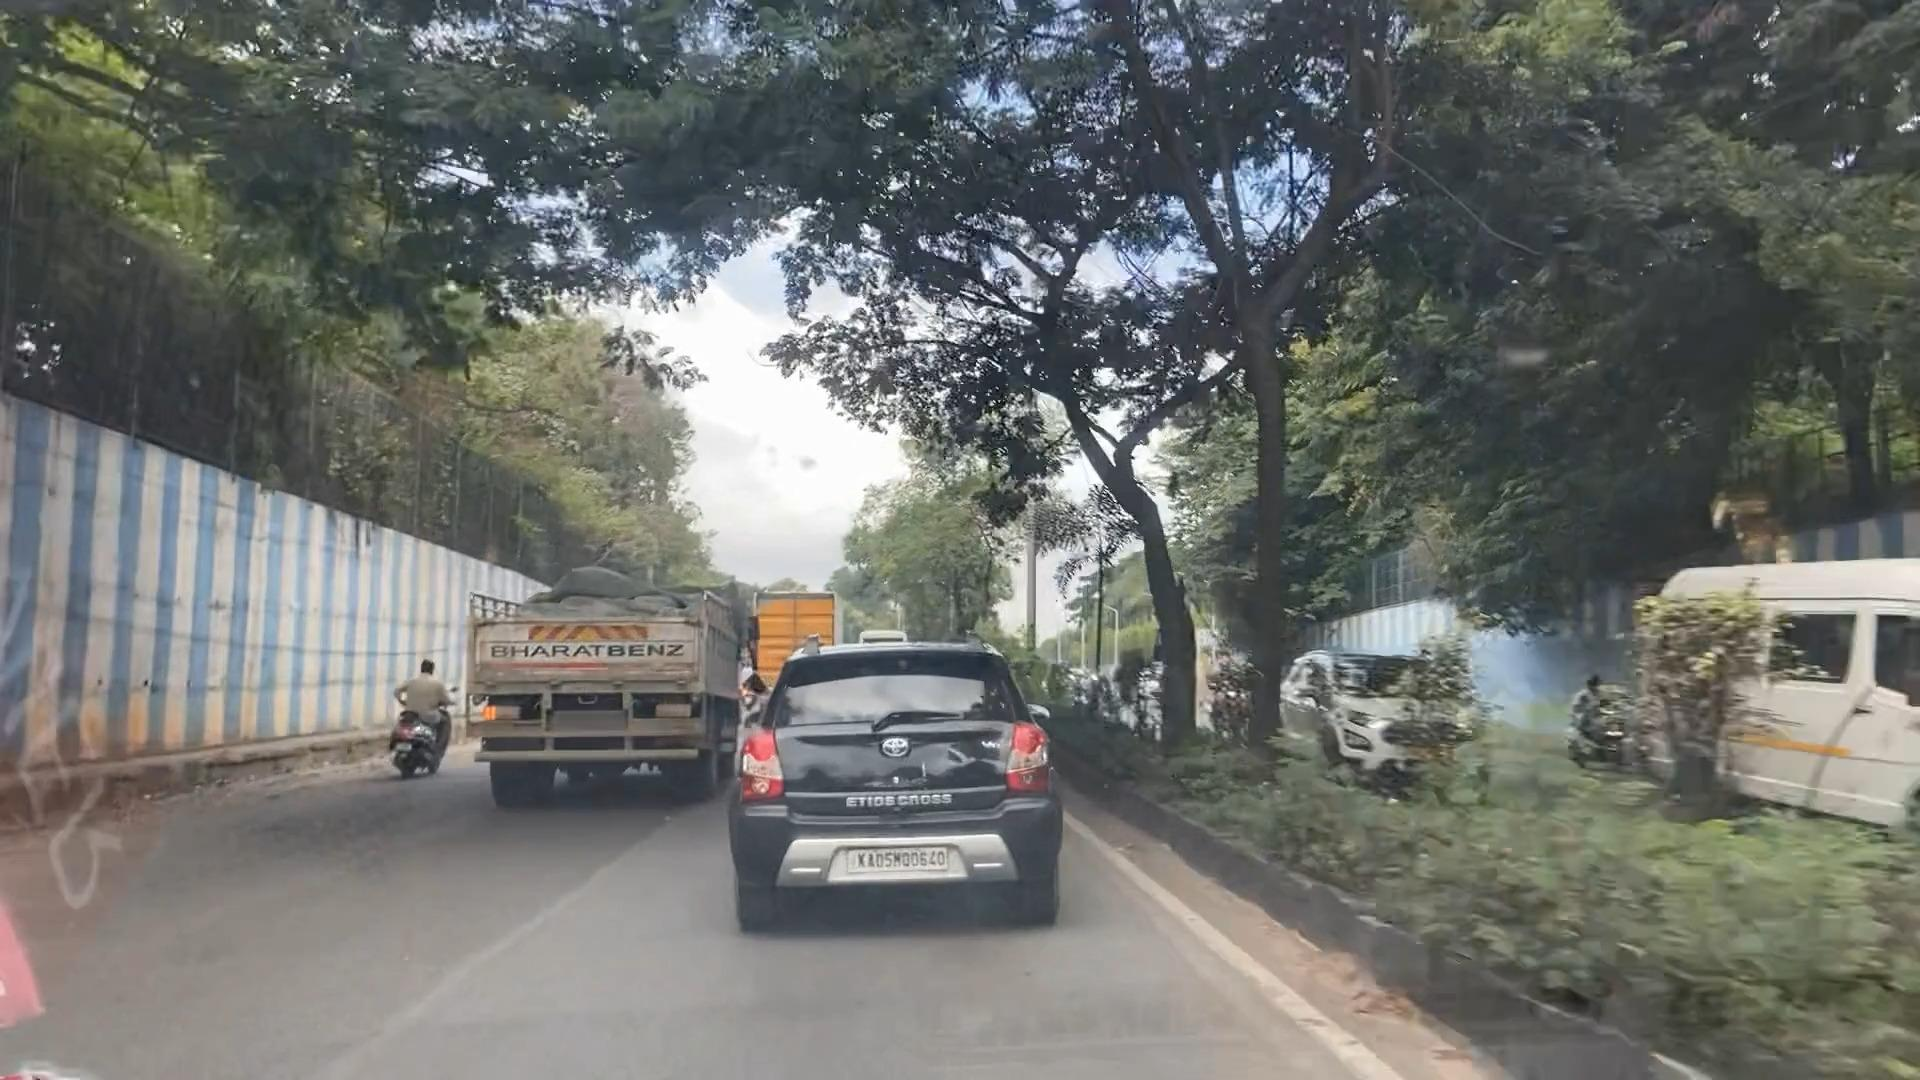HMV: (463, 524, 754, 845)
LMV: (695, 603, 1118, 986), (380, 651, 475, 807)
